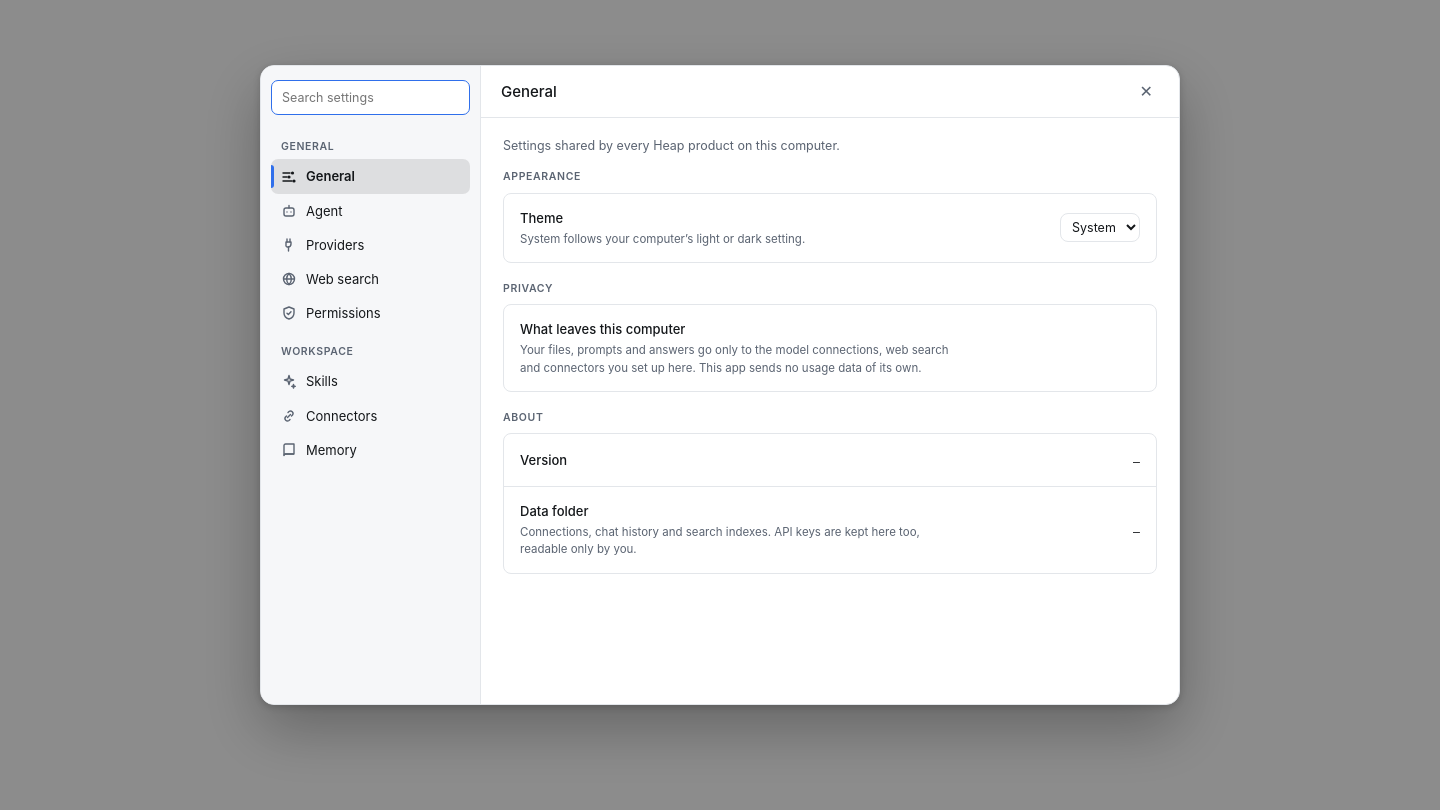
Test: model roles › lists the models of the connection the row points at, after it is changed
Click the button "Providers": x=370, y=245 x1=271 y1=228 x2=470 y2=262
(page scrolled)
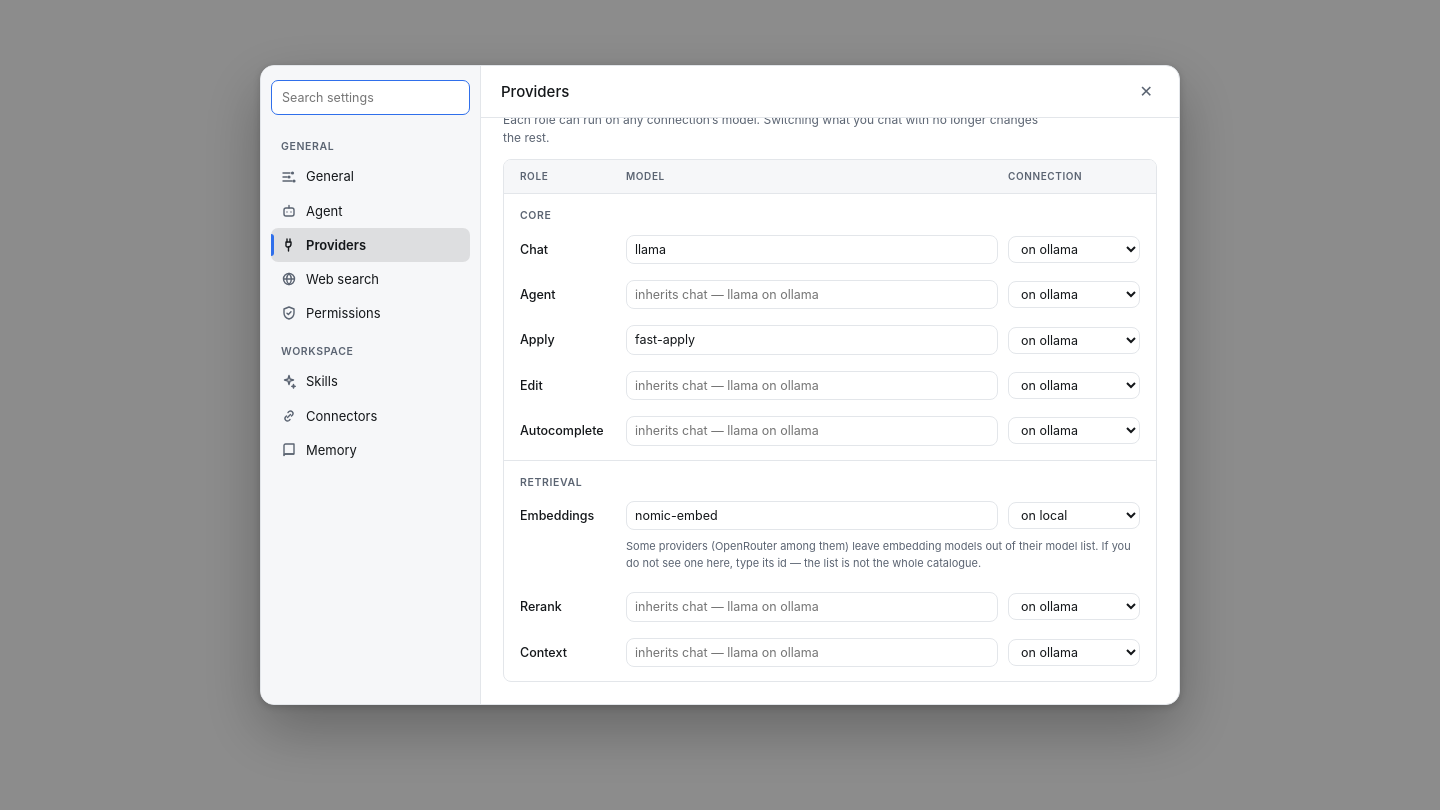
Focus the dropdown named "Rerank model": x=812, y=607 x1=626 y1=592 x2=998 y2=622
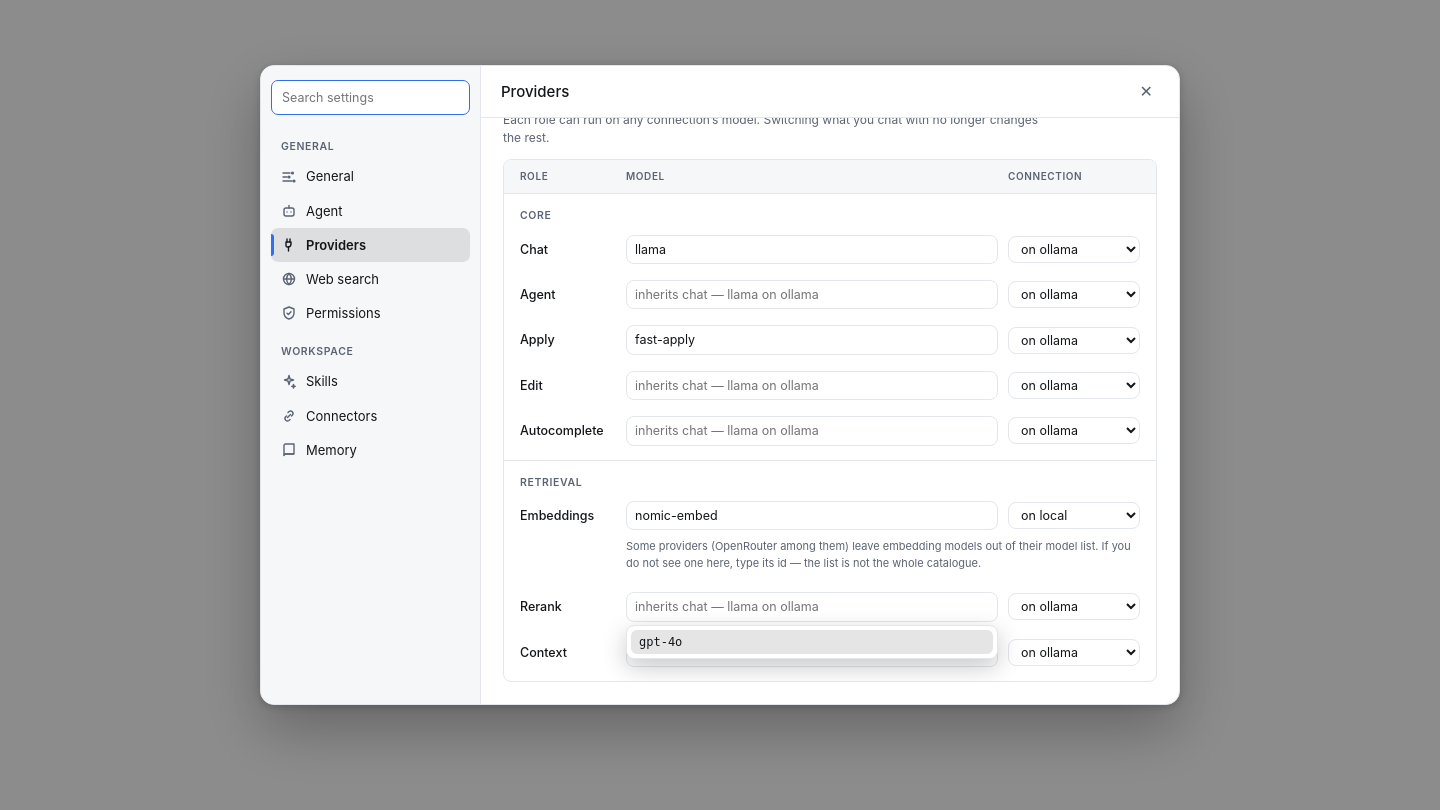
Select "on local" in the dropdown named "Rerank connection": x=1074, y=607 x1=1008 y1=593 x2=1140 y2=620
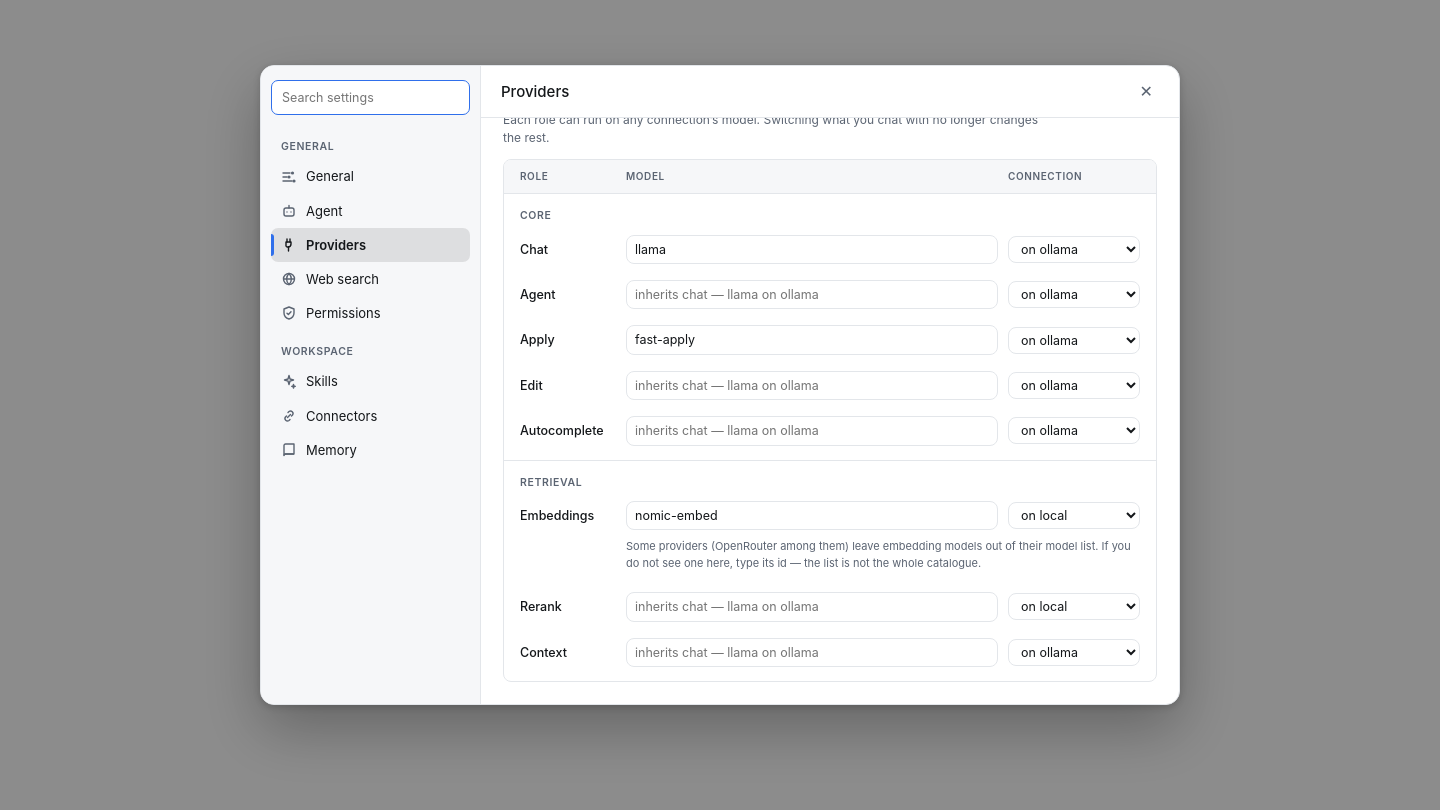
Focus the dropdown named "Rerank model": x=812, y=607 x1=626 y1=592 x2=998 y2=622
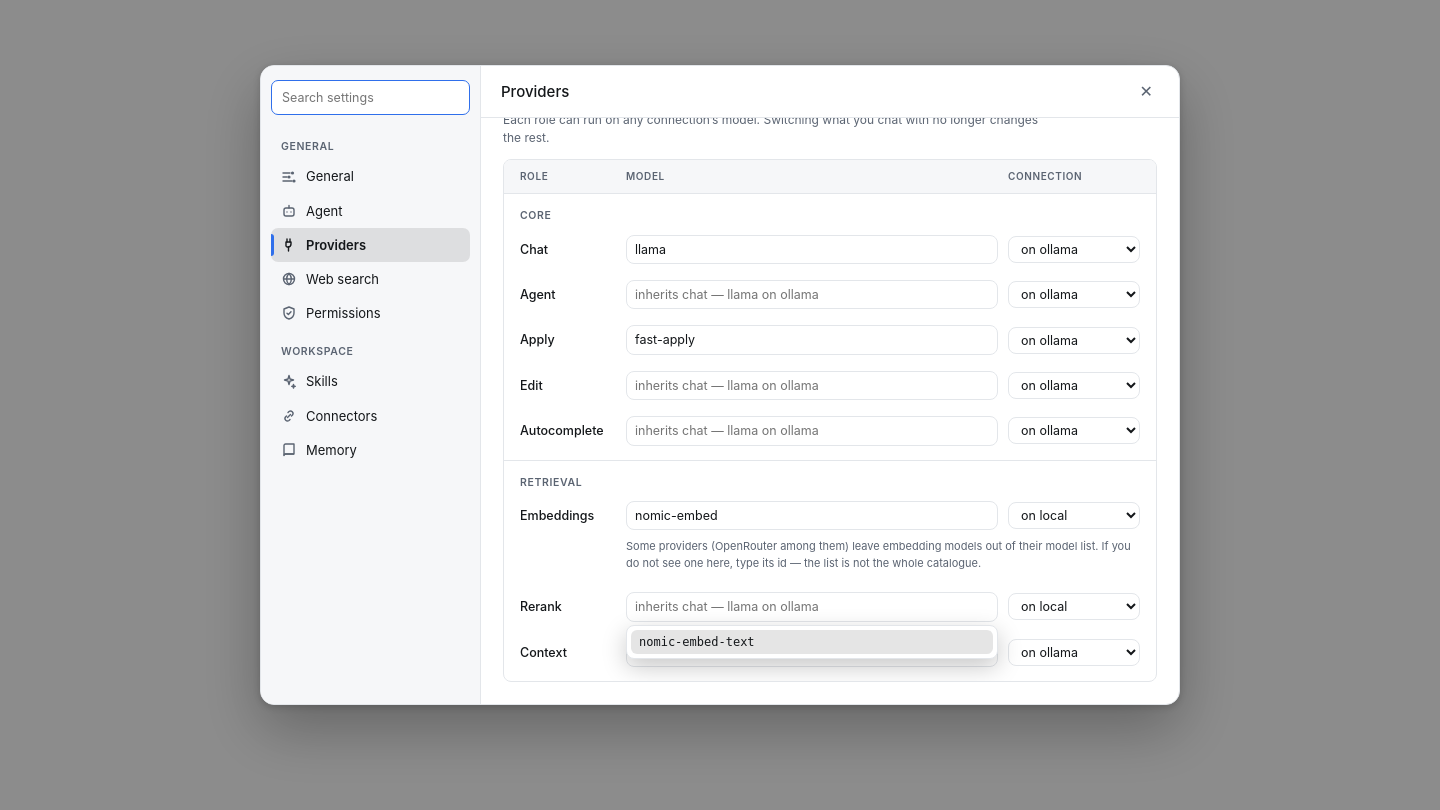
Expected: the option "nomic-embed-text" is shown, x1=631 y1=630 x2=993 y2=654
